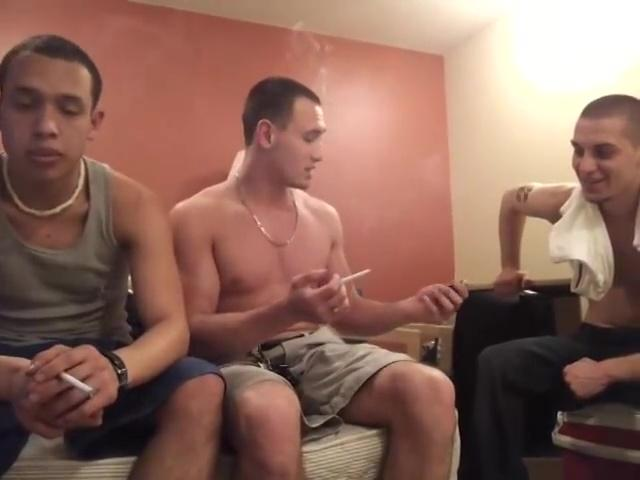cigarette: (57, 372, 101, 398), (339, 266, 375, 285)
